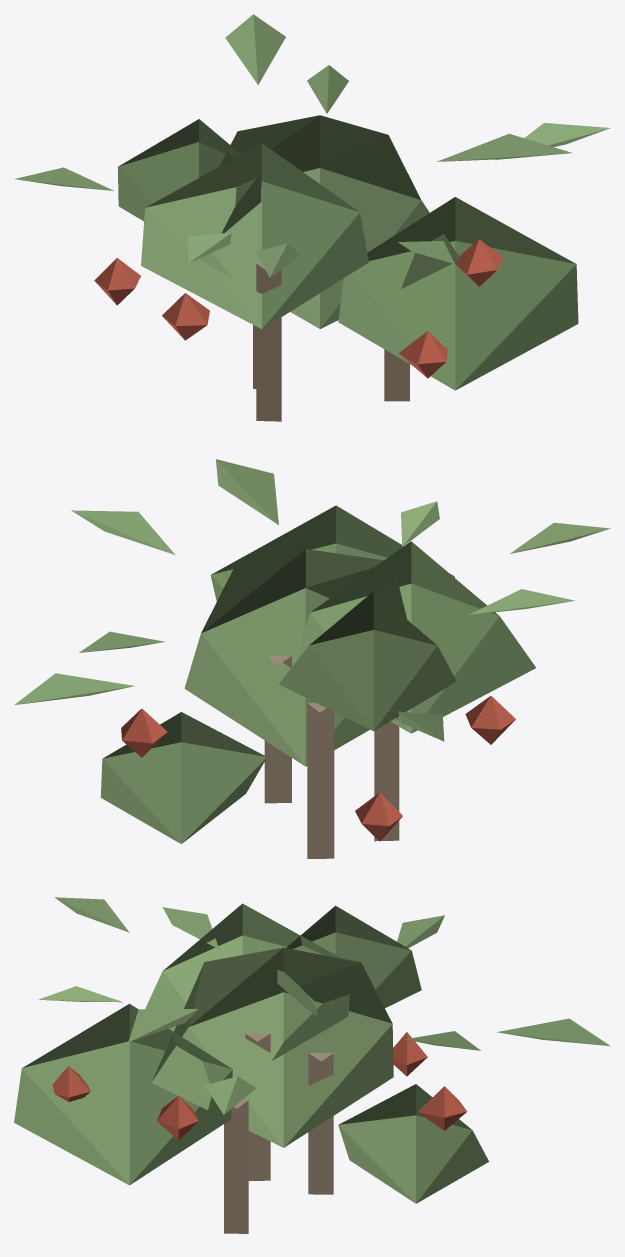
The model's file is guan.zhizi@fruiting__spring.glb.
The picture shows the model from 3 angles, top to bottom: view 1: azimuth 30°, elevation 25°; view 2: azimuth 150°, elevation 25°; view 3: azimuth 270°, elevation 25°; orthographic projection. The views are drawn at different scales.
Parts seen in each view (by area): view 1: guan.zhizi@fruiting__spring; view 2: guan.zhizi@fruiting__spring; view 3: guan.zhizi@fruiting__spring.
Part boxes in pixels (x1=…): guan.zhizi@fruiting__spring: x1=15, y1=14, x2=610, y2=421; guan.zhizi@fruiting__spring: x1=14, y1=459, x2=610, y2=858; guan.zhizi@fruiting__spring: x1=14, y1=897, x2=610, y2=1233.
Bounding box in the file's own units: 2.51 × 1.46 × 2.89.
